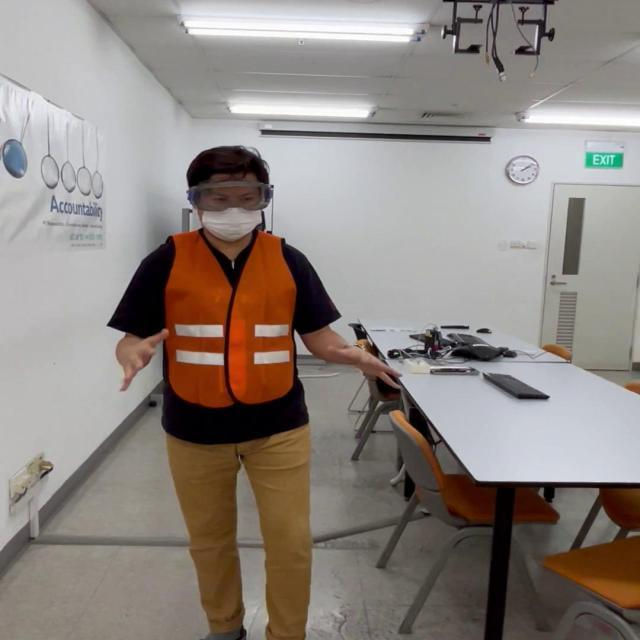bare_hand: (108, 324, 172, 394), (328, 338, 405, 392)
